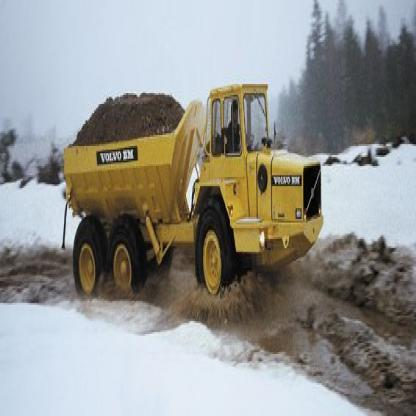dump_truck: (62, 53, 327, 312)
